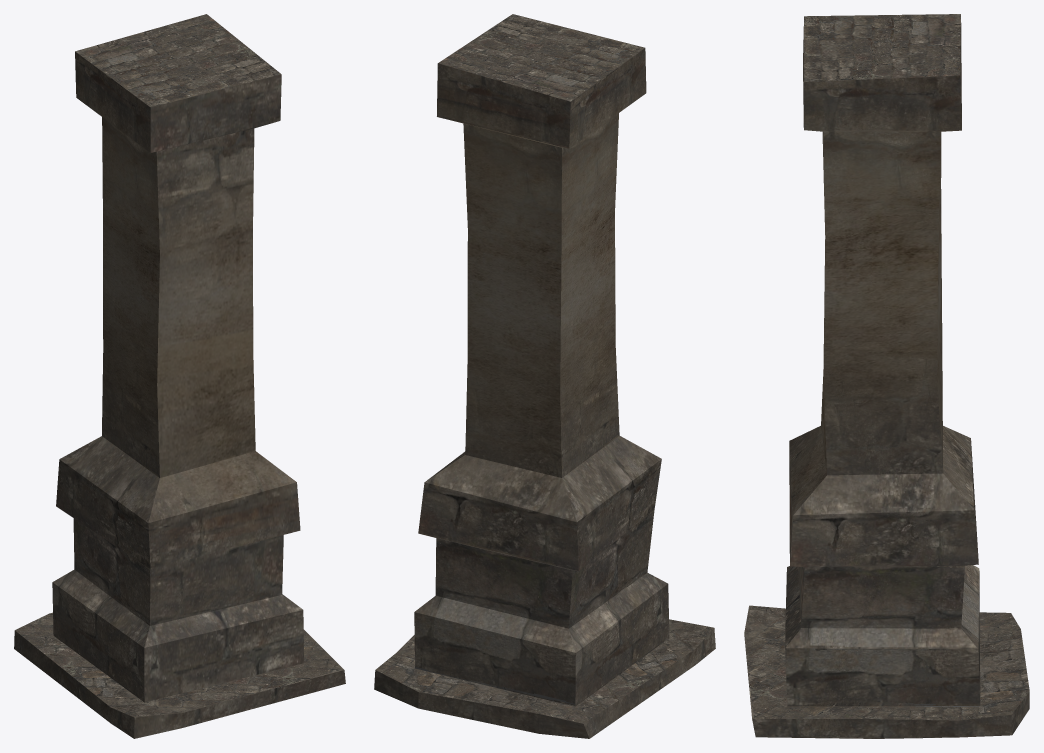
File: dungPillars.glb
3 views of the same model, side by side, from view 1: azimuth 30°, elevation 25°; view 2: azimuth 150°, elevation 25°; view 3: azimuth 270°, elevation 25° (orthographic). The views are drawn at different scales.
Visible parts, largest first — view 1: pillar; view 2: pillar; view 3: pillar.
Part boxes in pixels (<box>): pillar: <box>14,14,345,738</box>; pillar: <box>374,14,715,738</box>; pillar: <box>744,14,1029,738</box>.
Size of the model in its own units: 3.19 by 8.34 by 3.37.
Materials: 1 (1 with a texture image).
